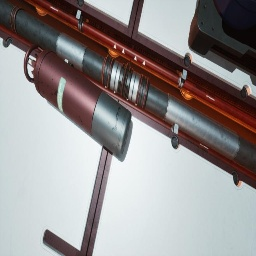NitrogenTank ,: (23, 44, 132, 158)
